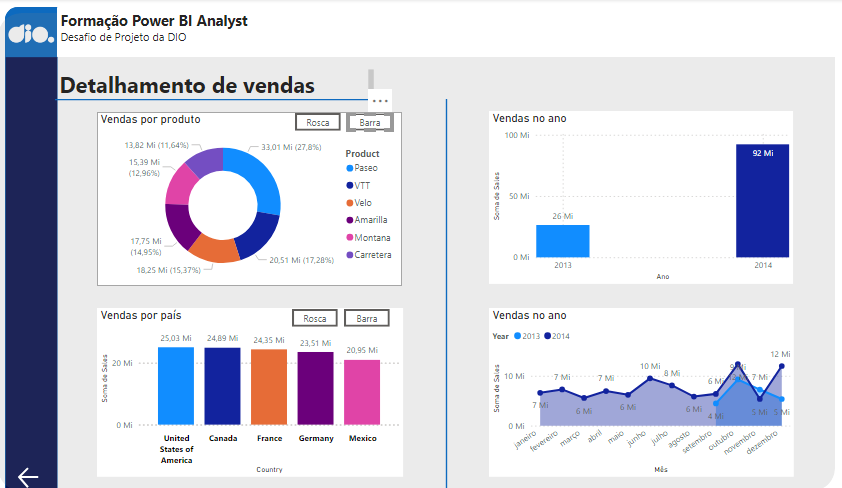

The dashboard page shown, as its layout file describes it:
{"tool":"powerbi","page":{"name":"Página 3","canvas":[1280,720],"ordinal":2},"visuals":[{"type":"shape","box":[10.1,13.4,77.2,706.3],"z":0},{"type":"shape","box":[83.9,127.8,473,37.1],"z":0,"group":"g1"},{"type":"shape","box":[10,11.8,77.3,73.6],"z":1000},{"type":"textbox","box":[85.3,97.6,470.2,52.2],"z":1000,"group":"g1"},{"type":"image","title":"logo_dio","box":[10.1,18.5,77.2,62.1],"z":2000},{"type":"shape","box":[0,20,1225,700],"z":3000},{"type":"shape","title":"Fundo do Título","box":[86.7,11.7,1193.3,73.3],"z":4000},{"type":"textbox","box":[86.7,11.7,325,66.7],"z":5000},{"type":"actionButton","box":[25,680,61.7,40],"z":6000},{"type":"group","id":"g1","title":"Sales report","box":[83.9,97.6,473,67.4],"z":7000},{"type":"shape","box":[506.7,146.7,300,573.3],"z":8000},{"type":"lineChart","title":"Vendas no ano","fields":{"Category":["financials.Date.Variation.Hierarquia de datas.Ano","financials.Date.Variation.Hierarquia de datas.Trimestre","financials.Date.Variation.Hierarquia de datas.Mês","financials.Date.Variation.Hierarquia de datas.Dia"],"Y":["Sum(financials. Sales)"],"Series":["financials.Year"]},"box":[718.5,452.2,446.3,247.3],"z":11000},{"type":"columnChart","title":"Vendas no ano","fields":{"Category":["financials.Date.Variation.Hierarquia de datas.Ano","financials.Date.Variation.Hierarquia de datas.Trimestre","financials.Date.Variation.Hierarquia de datas.Mês","financials.Date.Variation.Hierarquia de datas.Dia"],"Y":["Sum(financials. Sales)"]},"box":[718.5,163.9,444.9,253.2],"z":12000},{"type":"group","id":"g2","title":"Grupo vendas por país","box":[145,451.7,448.3,248.3],"z":12500},{"type":"group","id":"g3","title":"Grupo vendas por produto","box":[145.6,165.6,445.9,254.4],"z":13000},{"type":"columnChart","title":"Vendas por produto","fields":{"Y":["Sum(financials. Sales)"],"Category":["financials.Product"]},"box":[145.6,165.6,444.4,254.4],"z":13250,"group":"g3"},{"type":"actionButton","title":"Botão rosca produtos","box":[435,167,67,26],"z":13500,"group":"g3"},{"type":"actionButton","title":"Botão barra produto","box":[512,167,67,26],"z":13750,"group":"g3"},{"type":"columnChart","title":"Vendas por país","fields":{"Category":["financials.Country"],"Y":["Sum(financials. Sales)"]},"box":[145,451.7,448.3,246.7],"z":14500,"group":"g2"},{"type":"actionButton","title":"Botão rosca país","box":[430,453,67,26],"z":15000,"group":"g2"},{"type":"actionButton","title":"Botão barra país","box":[507,453,67,26],"z":16000,"group":"g2"}]}

Visuals, with their boxes on the page's 1280x720 design canvas (x1, y1, x2, y2). These are canvas units, not pixel positions in the 842x488 screenshot, which may show the page scaled, cropped or inside an application window:
shape: [10,13,87,720]
shape: [84,128,557,165]
shape: [10,12,87,85]
textbox: [85,98,556,150]
"logo_dio" image: [10,18,87,81]
shape: [0,20,1225,720]
"Fundo do Título" shape: [87,12,1280,85]
textbox: [87,12,412,78]
actionButton: [25,680,87,720]
"Sales report" group: [84,98,557,165]
shape: [507,147,807,720]
"Vendas no ano" lineChart: [718,452,1165,700]
"Vendas no ano" columnChart: [718,164,1163,417]
"Grupo vendas por país" group: [145,452,593,700]
"Grupo vendas por produto" group: [146,166,592,420]
"Vendas por produto" columnChart: [146,166,590,420]
"Botão rosca produtos" actionButton: [435,167,502,193]
"Botão barra produto" actionButton: [512,167,579,193]
"Vendas por país" columnChart: [145,452,593,698]
"Botão rosca país" actionButton: [430,453,497,479]
"Botão barra país" actionButton: [507,453,574,479]
